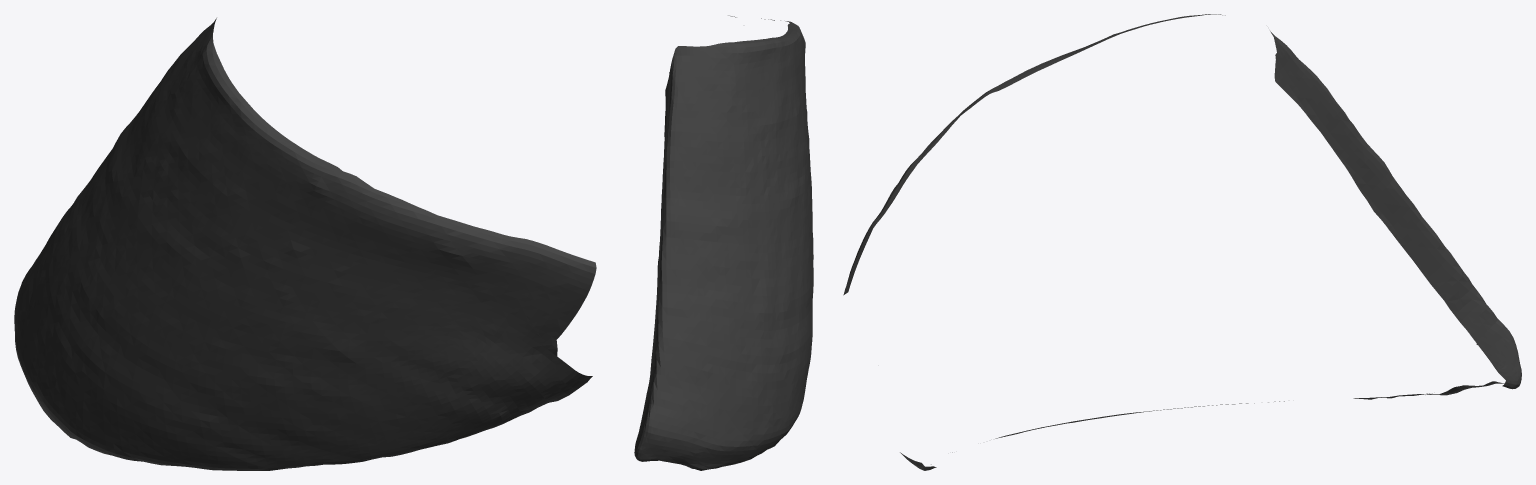
The model's file is eq_dist_limb_Hoof_Wall.glb.
3 renders of one model, left to right at view 1: azimuth 30°, elevation 25°; view 2: azimuth 150°, elevation 25°; view 3: azimuth 270°, elevation 25°, orthographic. The views are drawn at different scales.
Parts seen in each view (by area): view 1: eq_dist_limb_Hoof_Wall; view 2: eq_dist_limb_Hoof_Wall; view 3: eq_dist_limb_Hoof_Wall.
Boxes of the visible parts, x1,y1,x2,y2 form: eq_dist_limb_Hoof_Wall: (14,18,596,470); eq_dist_limb_Hoof_Wall: (634,15,813,470); eq_dist_limb_Hoof_Wall: (843,14,1521,470).
Bounding box in the file's own units: 0.0126 × 0.0139 × 0.0192.
1 material, 1 textured.
